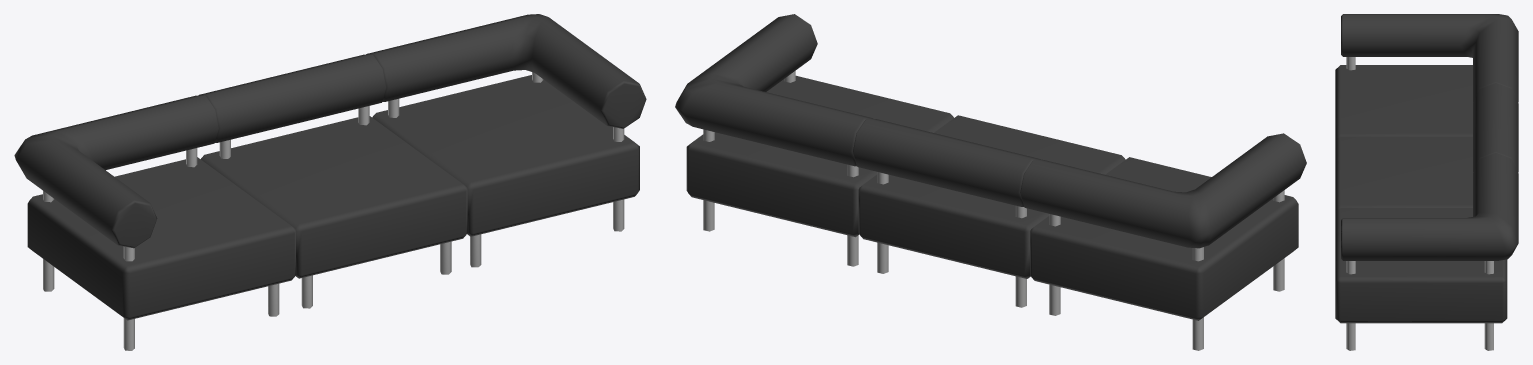
The model's file is sofa_010.glb.
The picture shows the model from 3 angles, left to right: view 1: azimuth 30°, elevation 25°; view 2: azimuth 150°, elevation 25°; view 3: azimuth 270°, elevation 25°; orthographic projection. The views are drawn at different scales.
Visible parts, largest first — view 1: sofa_010; view 2: sofa_010; view 3: sofa_010.
Boxes of the visible parts, x1=… form: sofa_010: x1=14, y1=14, x2=646, y2=350; sofa_010: x1=675, y1=14, x2=1306, y2=350; sofa_010: x1=1335, y1=14, x2=1518, y2=350.
Bounding box in the file's own units: 2.42 × 0.6576 × 0.8387.
Materials: 1 (1 with a texture image).
